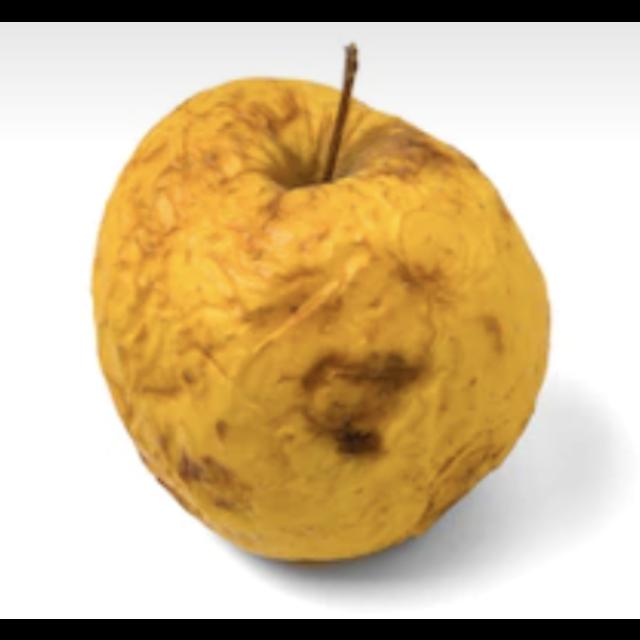Apel Tidak Segar: (88, 69, 556, 569)
